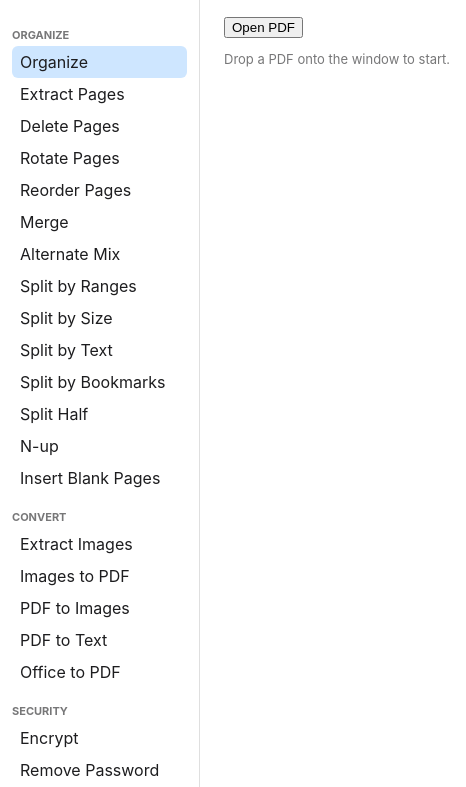
App › shows why Open failed
Click the button "Open PDF" at (264, 28), box [224,17,303,38]
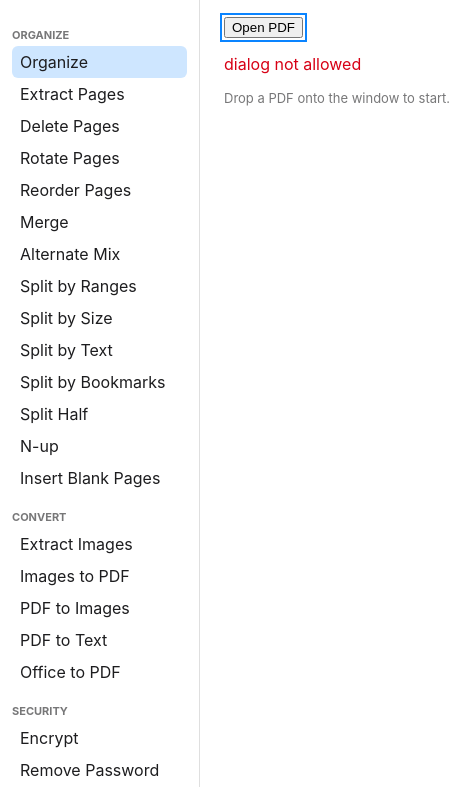
Now the message reads "dialog not allowed", box [224,54,361,74]
